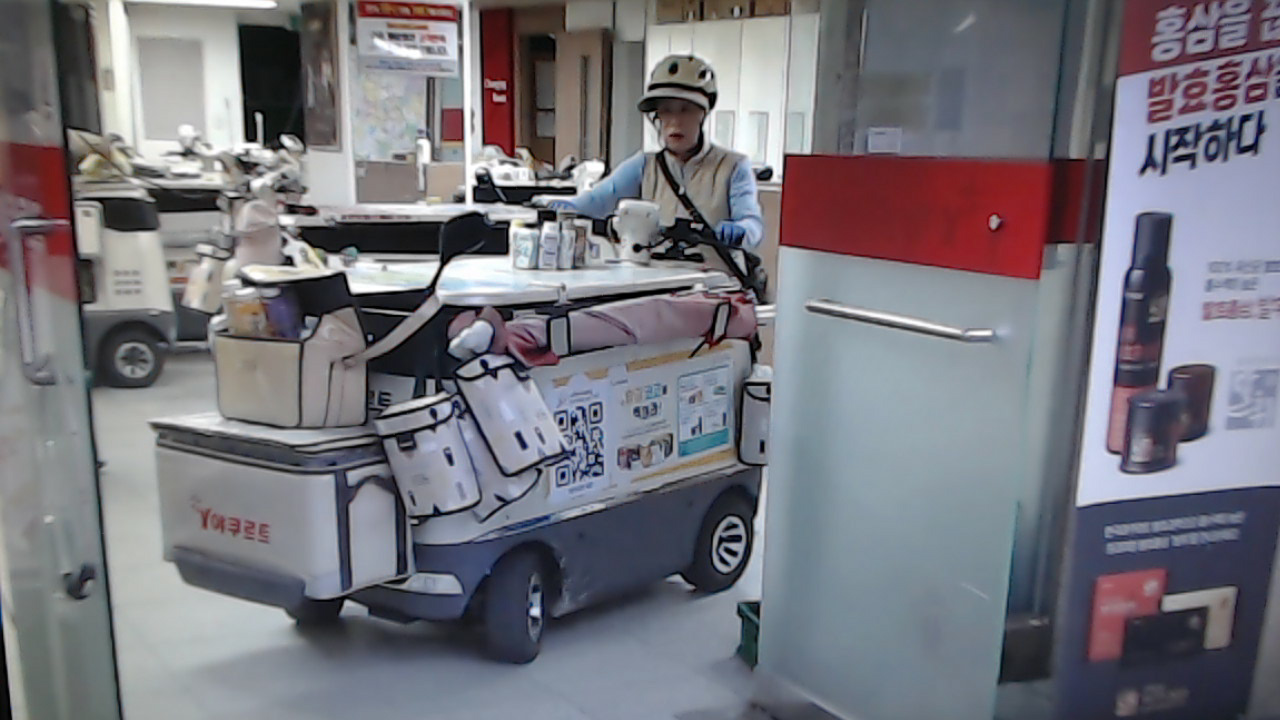Yakurut: (540, 57, 782, 266)
